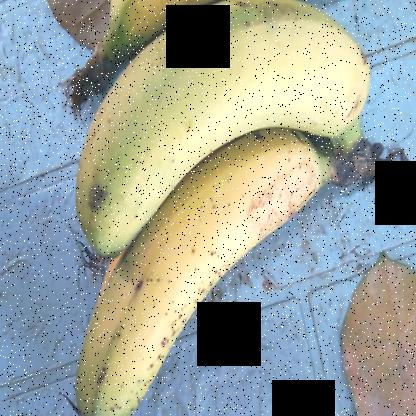freshripe: (83, 1, 384, 238)
ripe: (57, 122, 317, 415)
